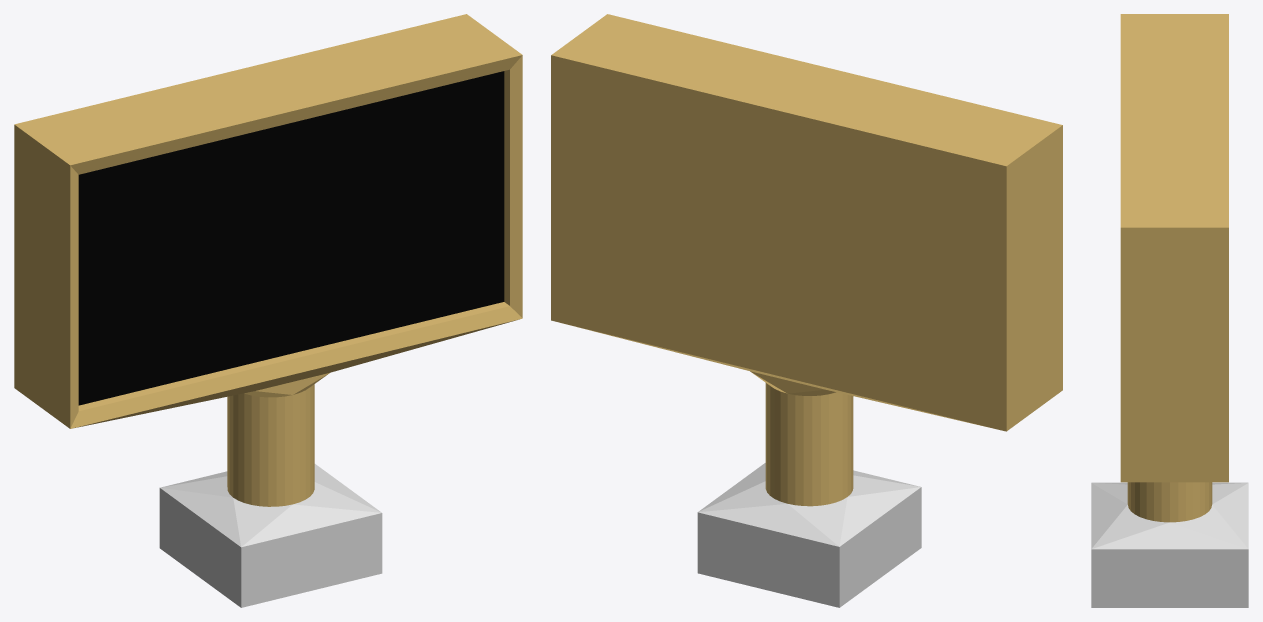
File: giant_screen.fbx
3 views of the same model, side by side, from view 1: azimuth 30°, elevation 25°; view 2: azimuth 150°, elevation 25°; view 3: azimuth 270°, elevation 25° (orthographic). The views are drawn at different scales.
Parts seen in each view (by area): view 1: Cylinder; view 2: Cylinder; view 3: Cylinder.
Part boxes in pixels (box(x1,y1,x2,y2)): Cylinder: box(14, 14, 522, 607); Cylinder: box(551, 14, 1062, 607); Cylinder: box(1091, 14, 1248, 607).
Bounding box in the file's own units: 3593 × 3561 × 1120.
